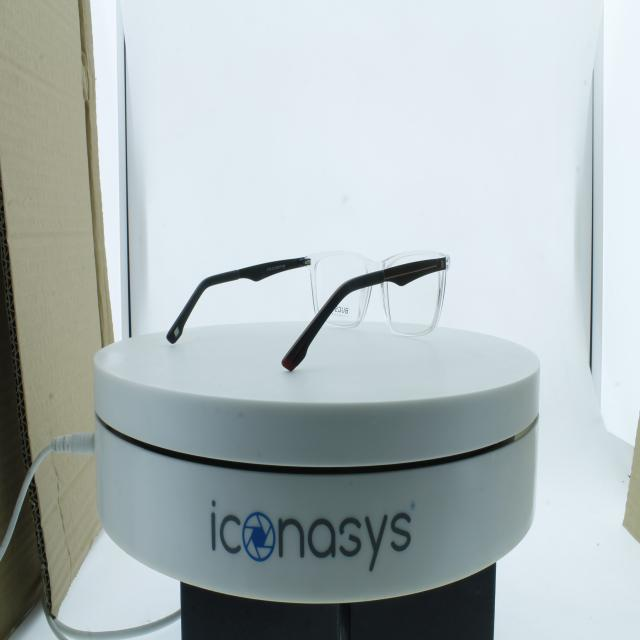Specs: (160, 229, 456, 389)
